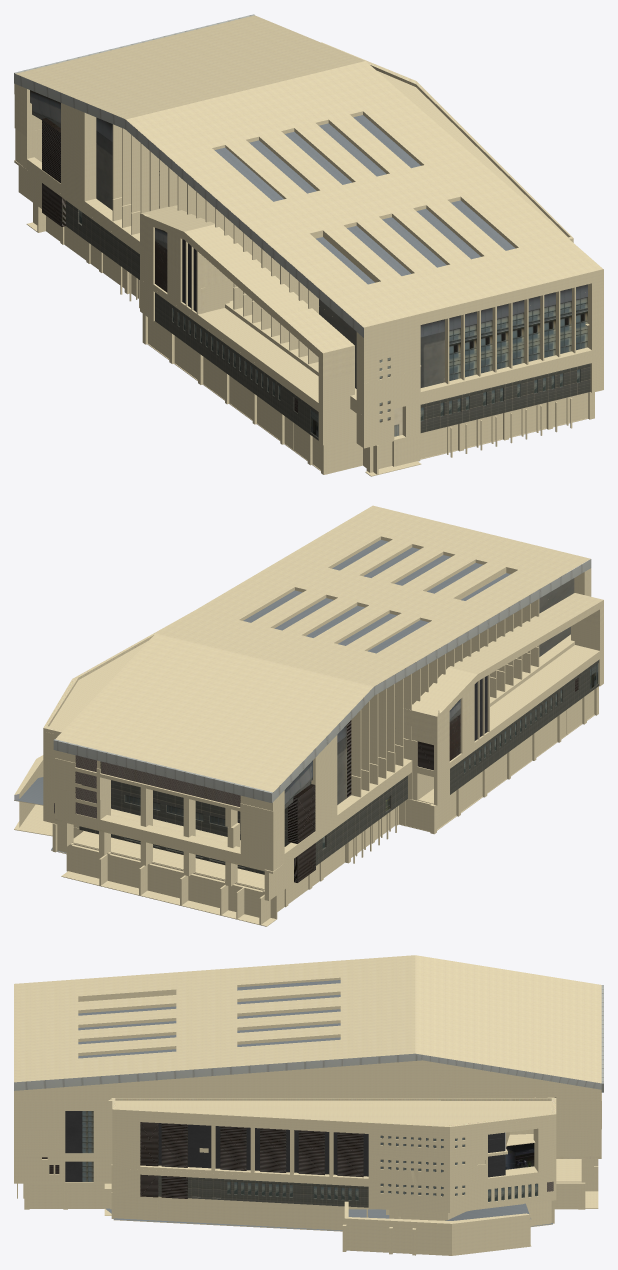
File: GymnasiumAll.glb
3 renders of one model, top to bottom at view 1: azimuth 30°, elevation 25°; view 2: azimuth 150°, elevation 25°; view 3: azimuth 270°, elevation 25°, orthographic. The views are drawn at different scales.
Visible parts, largest first — view 1: tiyuguan1; view 2: tiyuguan1; view 3: tiyuguan1.
Part boxes in pixels (x1,y1,x2,y2): tiyuguan1: [14, 14, 603, 476]; tiyuguan1: [14, 505, 603, 926]; tiyuguan1: [14, 955, 603, 1255].
Bounding box in the file's own units: 0.0963 × 0.0457 × 0.1549.
Materials: 7 (6 with a texture image).
